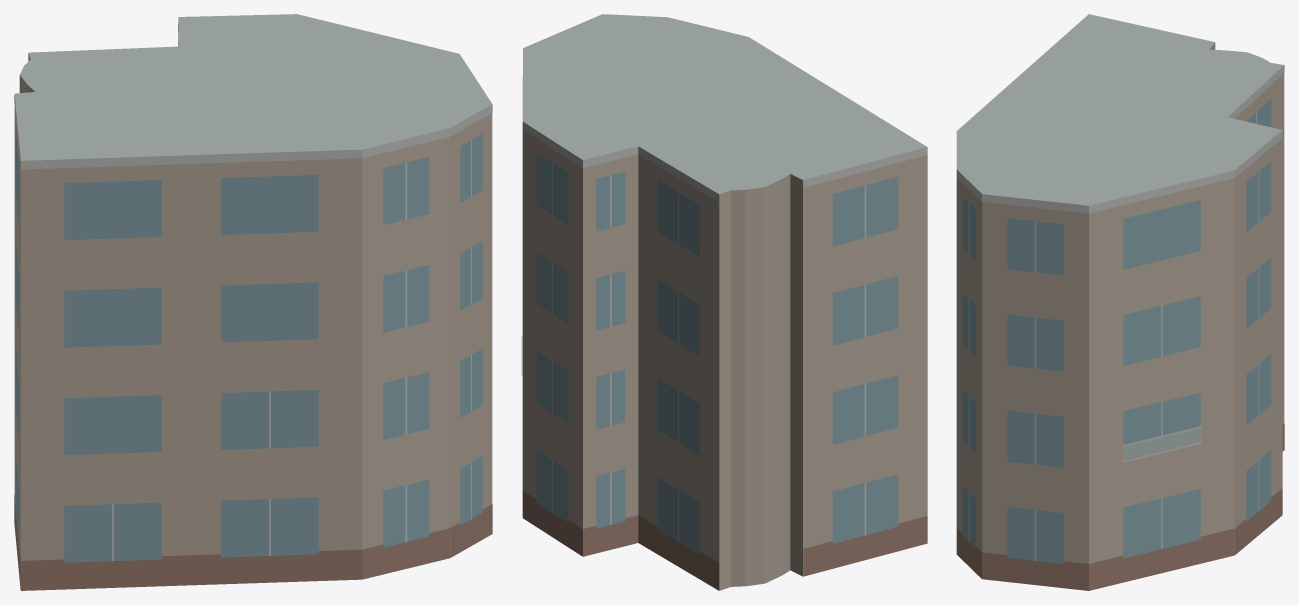
The model's file is survey-upis-32461650.glb.
3 views of the same model, side by side, from view 1: azimuth 30°, elevation 25°; view 2: azimuth 150°, elevation 25°; view 3: azimuth 270°, elevation 25° (orthographic). The views are drawn at different scales.
Visible parts, largest first — view 1: survey-upis-32461650.tmp; view 2: survey-upis-32461650.tmp; view 3: survey-upis-32461650.tmp.
Boxes of the visible parts, box(x1,y1,x2,y2) form: survey-upis-32461650.tmp: box(14, 14, 492, 590); survey-upis-32461650.tmp: box(521, 14, 927, 590); survey-upis-32461650.tmp: box(956, 14, 1284, 590).
Size of the model in its own units: 12.93 by 12.1 by 9.34.
